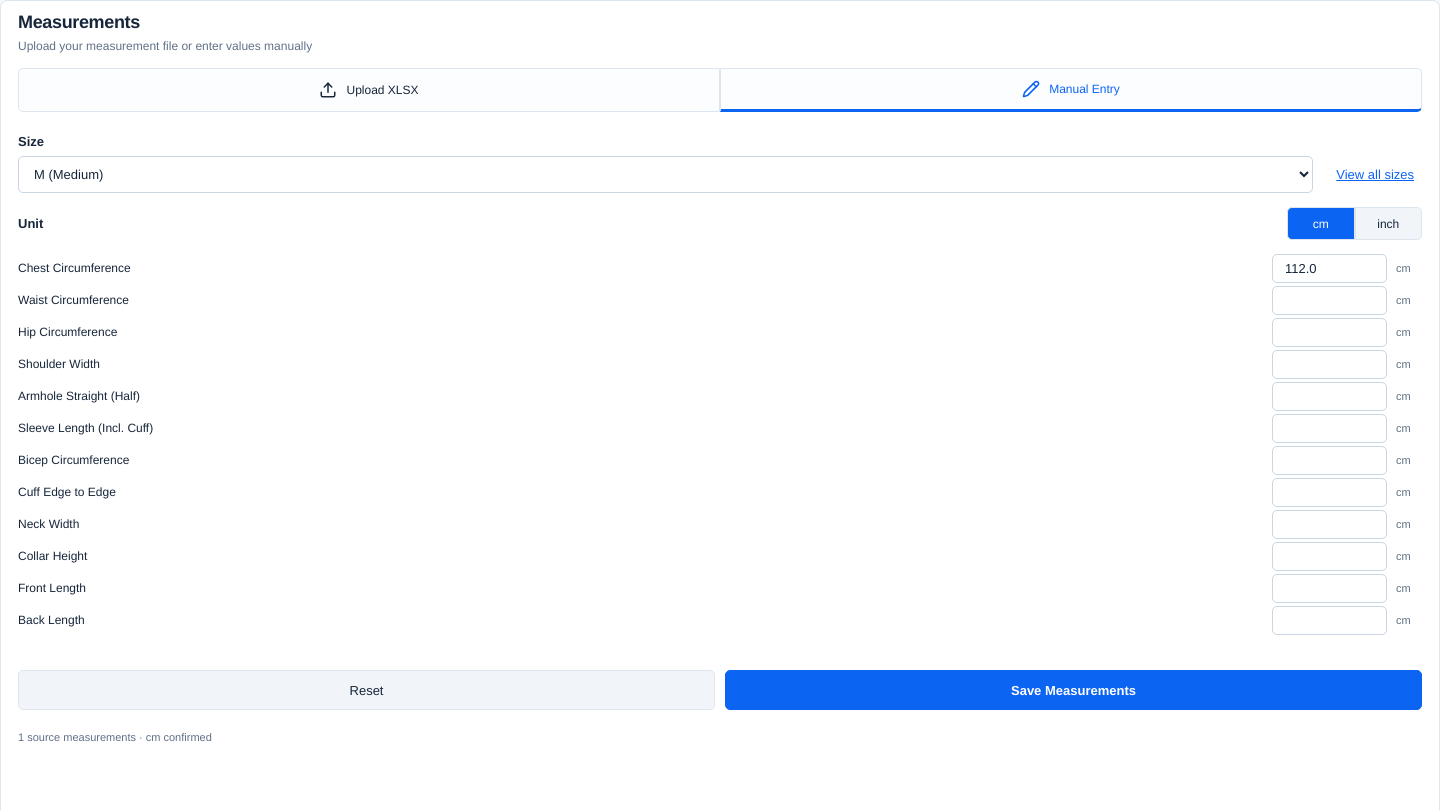
Test: Measurements Reset › clears fields when there are no unsaved edits
Check: the number field labelled "Chest Circumference" holds "112.0", box [1272,254,1387,282]
Click the button "Reset" at point(366, 690), box [18,670,715,710]
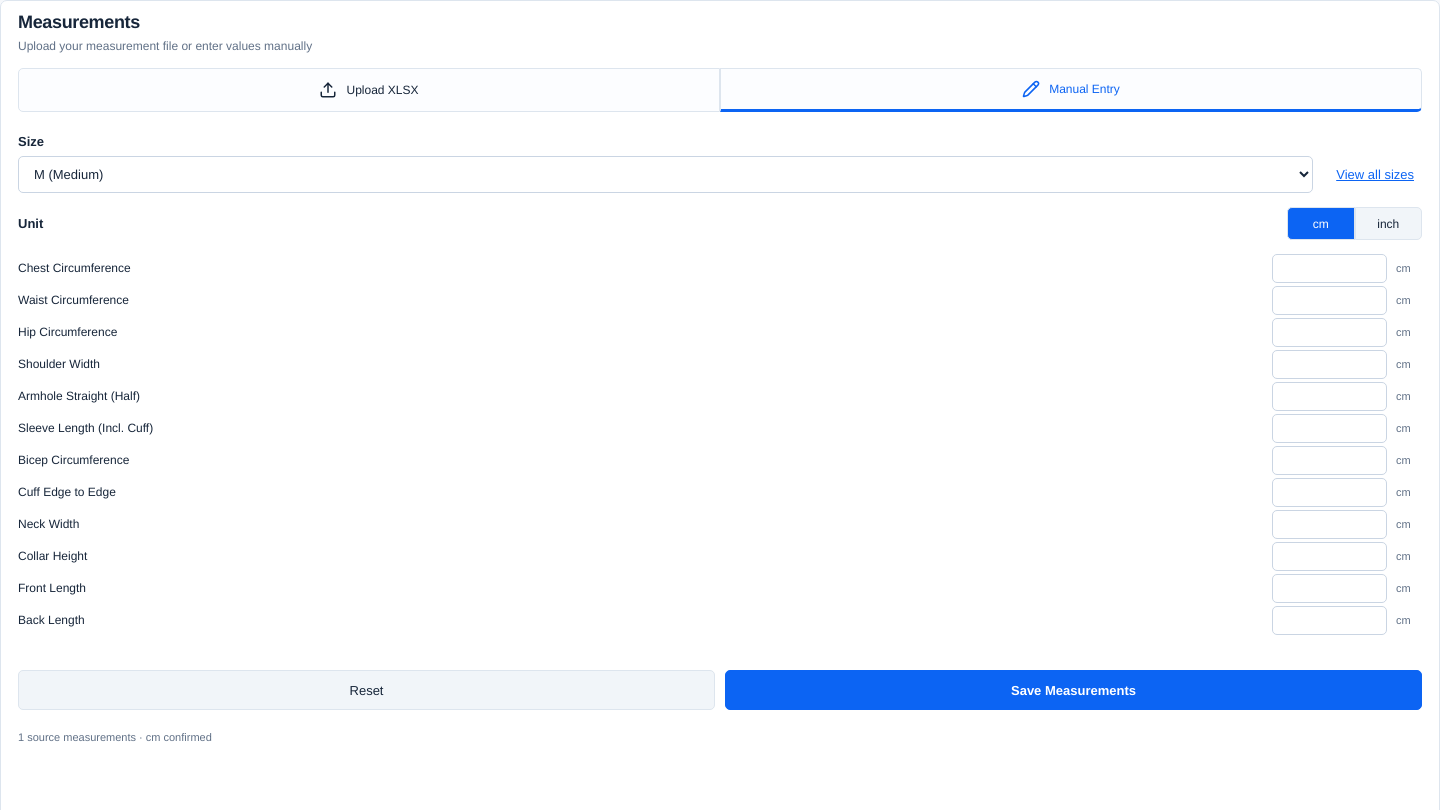
Check: the number field labelled "Chest Circumference" is empty, box [1272,254,1387,282]
